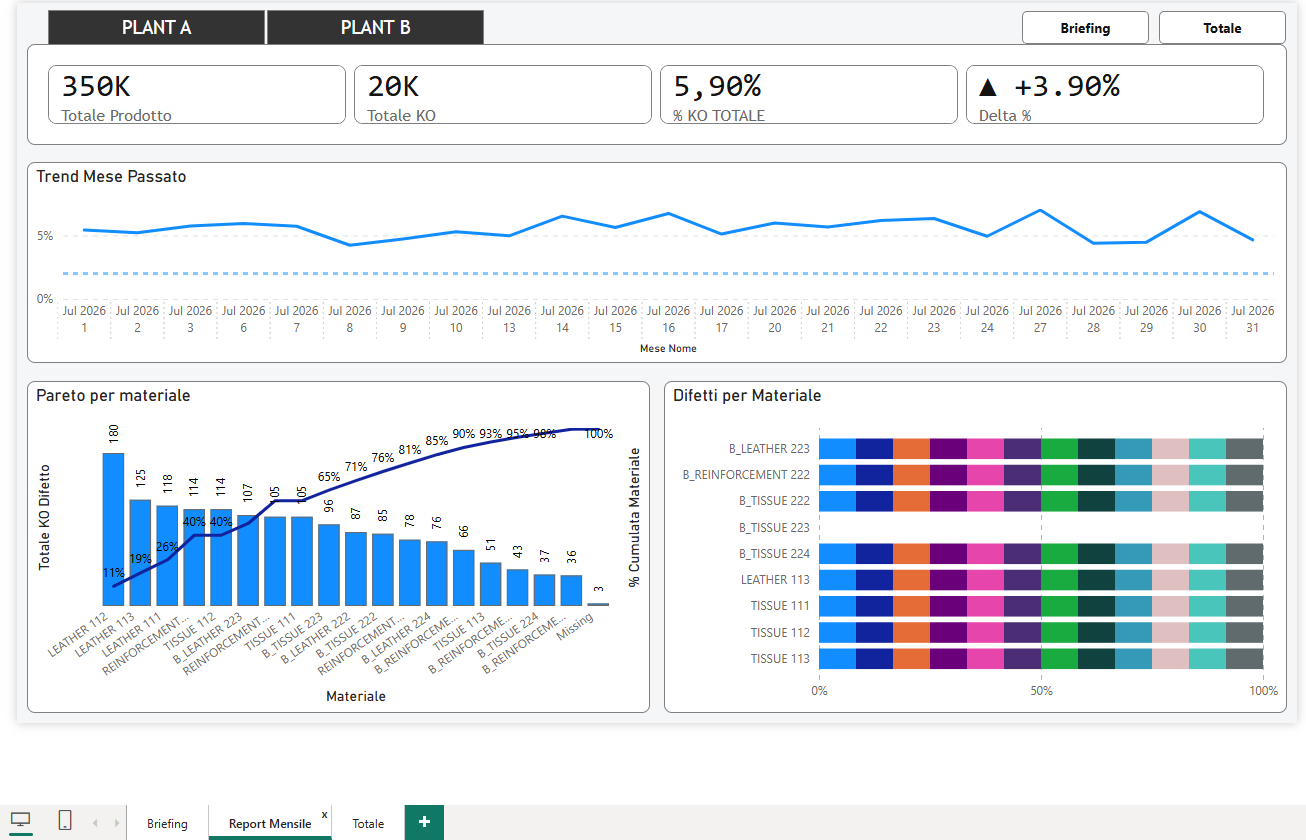

The dashboard page shown, as its layout file describes it:
{"tool":"powerbi","page":{"name":"Report Mensile","canvas":[1280,720],"ordinal":1},"visuals":[{"type":"cardVisual","fields":{"Data":["Misure.Totale Ordine","Misure.Totale KO","Misure.% KO TOTALE","Misure.TOTALE Delta % con indicatore"]},"box":[10,41,1260,101],"z":0},{"type":"lineChart","title":"Trend Mese Passato","fields":{"Category":["Calendario.Giorno","Calendario.Mese Nome"],"Y":["_Misure.Loss Rate %"]},"box":[10,159,1260,201],"z":1000},{"type":"hundredPercentStackedBarChart","title":"Difetti per Materiale","fields":{"Category":["CMZ_Data_Entry.Materiale"],"Series":["CMZ_Data_Entry.Nome Difetto"],"Y":["Misure.KO Ieri"]},"box":[647,378,623,332],"z":2000},{"type":"slicer","fields":{"Values":["CMZ_Data_Entry.Plant"]},"box":[10,0,481,41],"z":3000},{"type":"pageNavigator","box":[1005,8,265,33],"z":4000},{"type":"lineClusteredColumnComboChart","title":"Pareto per materiale ","fields":{"Category":["CMZ_Data_Entry.Materiale"],"Y":["_Misure.Totale KO Difetto"],"Y2":["_Misure.% Cumulata Materiale"]},"box":[10,378,623,332],"z":5000}]}

Visuals, with their boxes on the page's 1280x720 design canvas (x1, y1, x2, y2). These are canvas units, not pixel positions in the 1306x840 screenshot, which may show the page scaled, cropped or inside an application window:
cardVisual - Misure.Totale Ordine x Misure.Totale KO: [10, 41, 1270, 142]
"Trend Mese Passato" lineChart: [10, 159, 1270, 360]
"Difetti per Materiale" hundredPercentStackedBarChart: [647, 378, 1270, 710]
slicer - CMZ_Data_Entry.Plant: [10, 0, 491, 41]
pageNavigator: [1005, 8, 1270, 41]
"Pareto per materiale " lineClusteredColumnComboChart: [10, 378, 633, 710]
